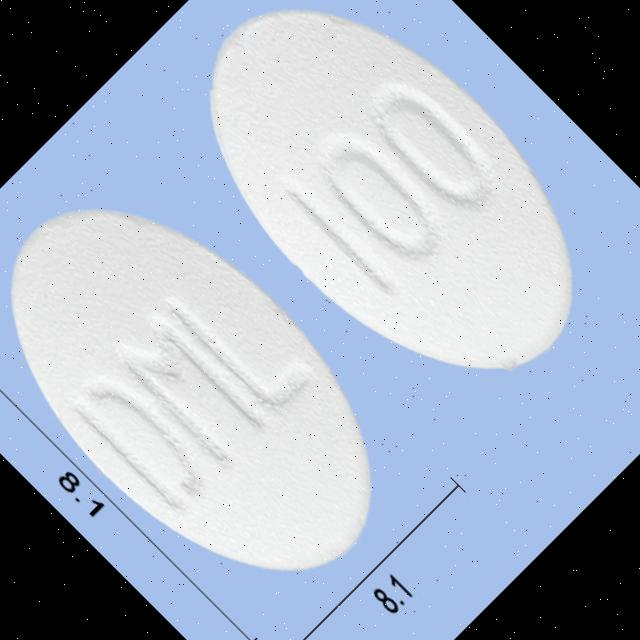Hi Levo: (0, 141, 439, 636), (146, 0, 637, 433)
